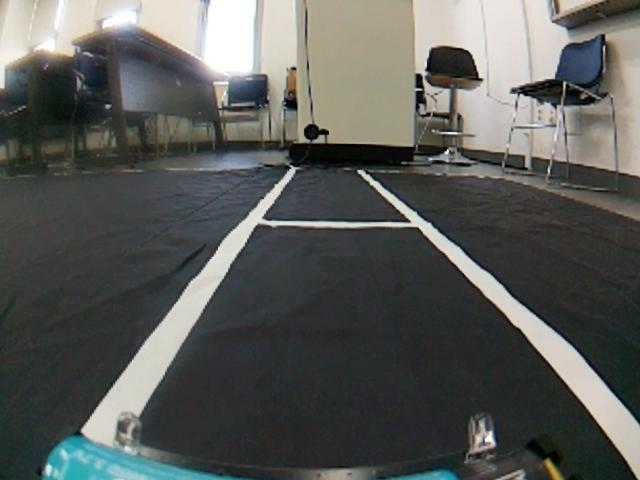straight: (46, 222, 640, 474)
